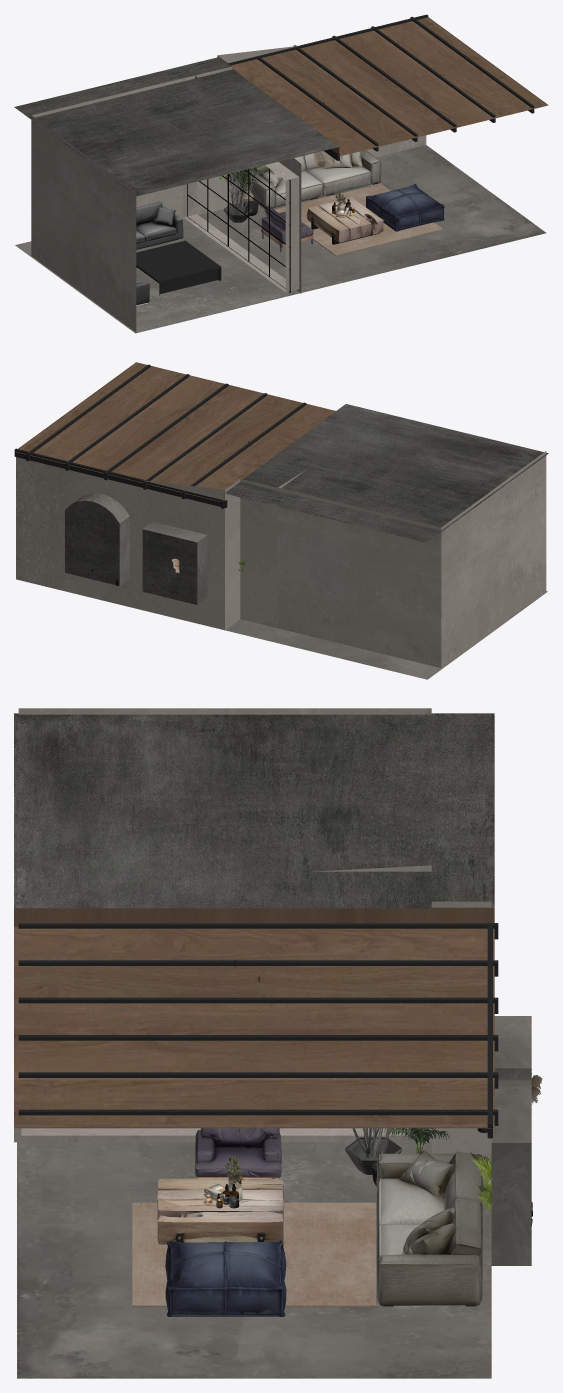
File: loft_13_living_room_interior.glb
3 views of the same model, one above another, from view 1: azimuth 30°, elevation 25°; view 2: azimuth 150°, elevation 25°; view 3: azimuth 270°, elevation 25° (orthographic). The views are drawn at different scales.
Parts seen in each view (by area): view 1: Cylinder.010_Material.002_0, Plane_Material.001_0, Plane_Material.003_0, Plane.001_Material.004_0, Cube_Material.009_0, node_0_Material.006_0, Cylinder.006_Material.005_0, node_0.001_Material.007_0, node_0.002_Material.008_0, node_0.005_Material.012_0, object 20, node_0.003_Material.010_0 (+1 smaller); view 2: Plane_Material.001_0, Cylinder.010_Material.002_0, Plane.001_Material.004_0, Plane_Material.003_0, Cube_Material.009_0; view 3: Cylinder.010_Material.002_0, Plane.001_Material.004_0, Plane_Material.003_0, Cube_Material.009_0, node_0_Material.006_0, Cylinder.006_Material.005_0, Plane_Material.001_0, node_0.001_Material.007_0, node_0.002_Material.008_0, node_0.003_Material.010_0, node_0.004_Material.011_0.
Boxes of the visible parts, bbox=[...] form: Cylinder.010_Material.002_0: bbox=[14, 57, 338, 222]; Plane_Material.001_0: bbox=[31, 45, 426, 332]; Plane_Material.003_0: bbox=[15, 145, 546, 333]; Plane.001_Material.004_0: bbox=[231, 17, 548, 156]; Cube_Material.009_0: bbox=[136, 14, 534, 295]; node_0_Material.006_0: bbox=[240, 150, 381, 208]; Cylinder.006_Material.005_0: bbox=[240, 183, 442, 255]; node_0.001_Material.007_0: bbox=[366, 184, 444, 231]; node_0.002_Material.008_0: bbox=[307, 197, 383, 244]; node_0.005_Material.012_0: bbox=[136, 201, 183, 305]; object 20: bbox=[187, 168, 290, 292]; node_0.003_Material.010_0: bbox=[261, 206, 313, 251]; Plane_Material.001_0: bbox=[16, 451, 546, 668]; Cylinder.010_Material.002_0: bbox=[65, 404, 548, 604]; Plane.001_Material.004_0: bbox=[14, 362, 335, 501]; Plane_Material.003_0: bbox=[72, 493, 547, 679]; Cube_Material.009_0: bbox=[14, 364, 306, 580]; Cylinder.010_Material.002_0: bbox=[14, 713, 494, 1174]; Plane.001_Material.004_0: bbox=[14, 908, 494, 1128]; Plane_Material.003_0: bbox=[17, 1016, 531, 1378]; Cube_Material.009_0: bbox=[18, 923, 532, 1225]; node_0_Material.006_0: bbox=[376, 1150, 482, 1306]; Cylinder.006_Material.005_0: bbox=[132, 1202, 376, 1307]; Plane_Material.001_0: bbox=[14, 708, 491, 1177]; node_0.001_Material.007_0: bbox=[165, 1240, 286, 1316]; node_0.002_Material.008_0: bbox=[157, 1178, 283, 1244]; node_0.003_Material.010_0: bbox=[194, 1128, 281, 1179]; node_0.004_Material.011_0: bbox=[203, 1155, 532, 1216].
Size of the model in its own units: 9.17 by 3.07 by 5.24.
20 materials, 18 textured.
